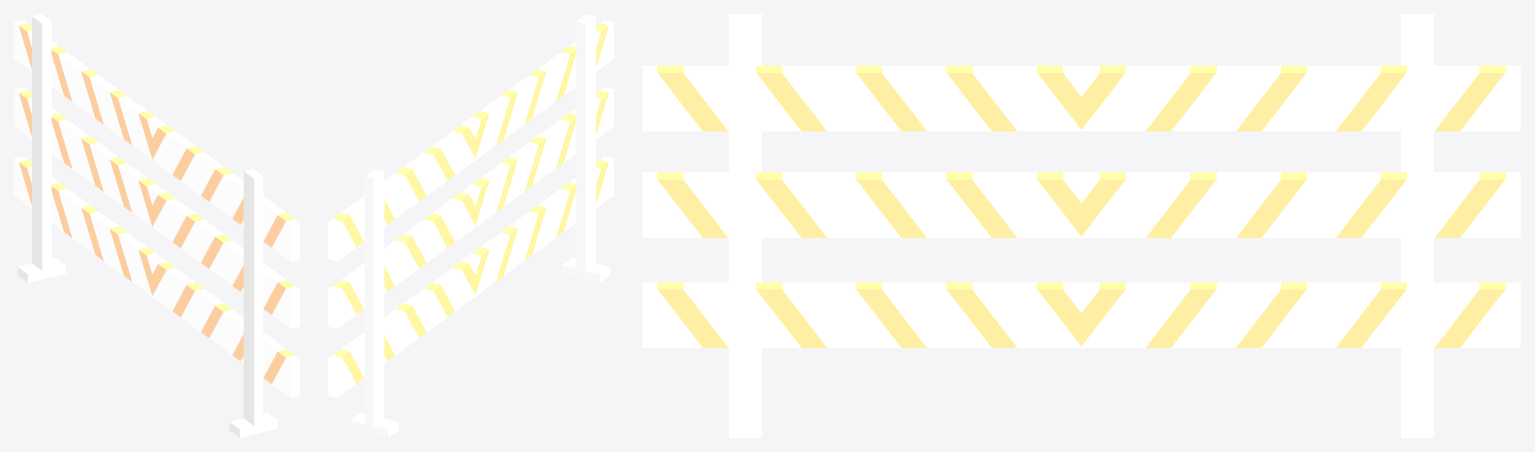
File: fence.glb
3 views of the same model, side by side, from view 1: azimuth 30°, elevation 25°; view 2: azimuth 150°, elevation 25°; view 3: azimuth 270°, elevation 25° (orthographic). The views are drawn at different scales.
Parts seen in each view (by area): view 1: Cube.004; view 2: Cube.004; view 3: Cube.004.
Part boxes in pixels (x1,y1,x2,y2): Cube.004: (14, 14, 299, 437); Cube.004: (328, 14, 613, 437); Cube.004: (642, 14, 1520, 437).
Bounding box in the file's own units: 0.2645 × 1.7 × 3.34.
Materials: 1 (1 with a texture image).
